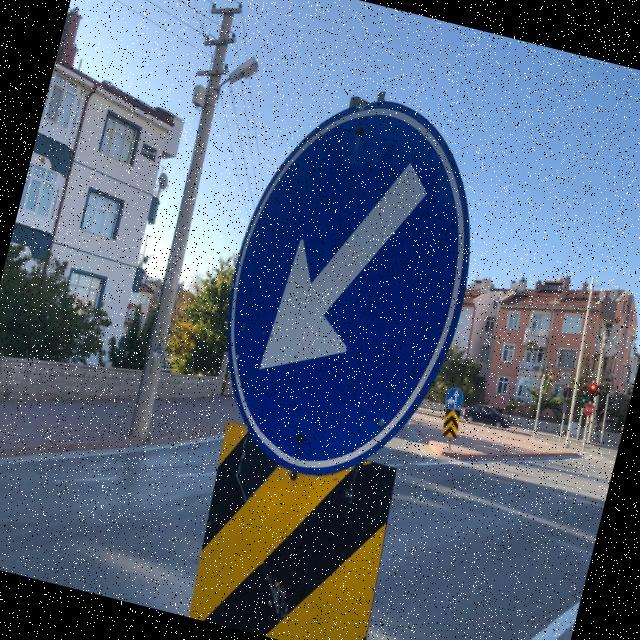compulsory_keep_right: (190, 53, 517, 500)
